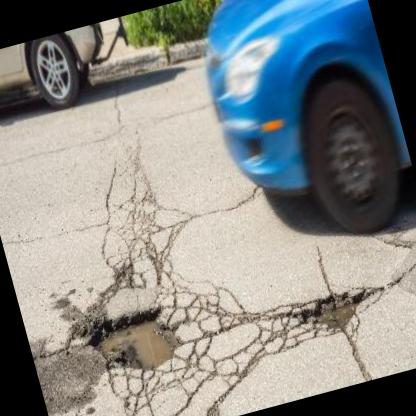pothole: (80, 286, 186, 382), (292, 283, 369, 342)
